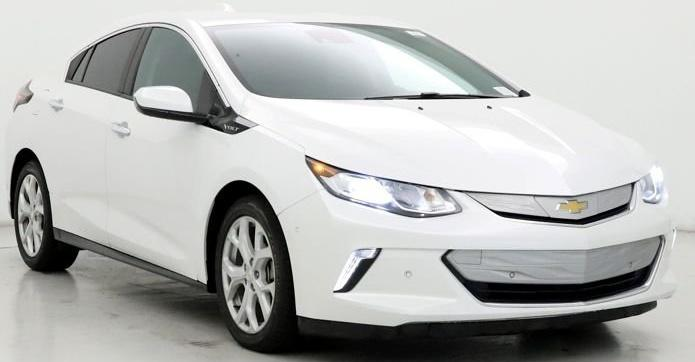Cars: (9, 17, 676, 351)
